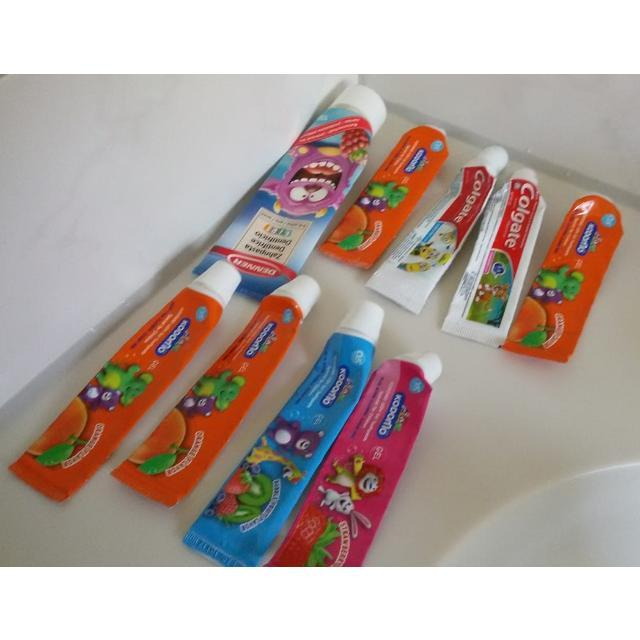Squeeze Tube: (9, 253, 256, 504), (178, 310, 389, 564), (118, 270, 319, 515), (192, 84, 392, 299), (267, 350, 445, 575), (367, 142, 508, 313), (500, 192, 622, 364), (322, 123, 457, 275), (440, 169, 548, 342)
